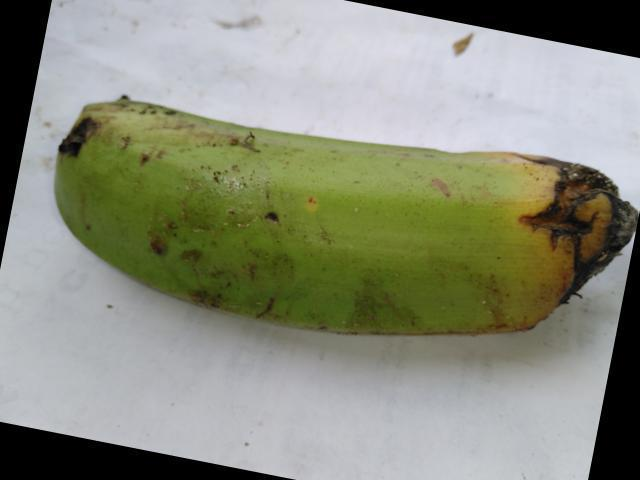rotten: (465, 150, 639, 323)
unripe: (52, 82, 507, 334)
